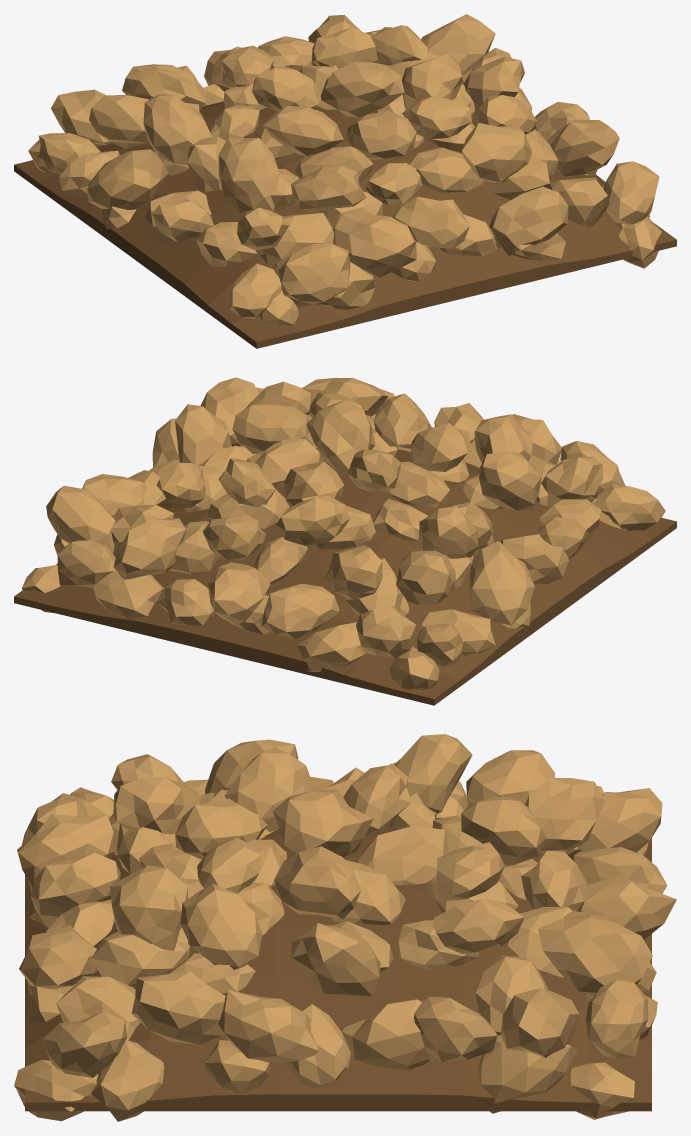
File: Pile_Potato.fbx
3 views of the same model, one above another, from view 1: azimuth 30°, elevation 25°; view 2: azimuth 150°, elevation 25°; view 3: azimuth 270°, elevation 25° (orthographic). The views are drawn at different scales.
Parts seen in each view (by area): view 1: Pile_Potato; view 2: Pile_Potato; view 3: Pile_Potato.
Boxes of the visible parts, <box> form: Pile_Potato: <box>14,14,676,348</box>; Pile_Potato: <box>14,377,676,705</box>; Pile_Potato: <box>14,734,676,1121</box>.
Size of the model in its own units: 1.04 by 0.3767 by 1.06.
